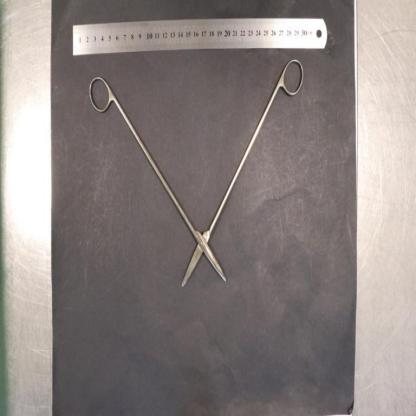9 Metzenbaum Scissors: (88, 58, 304, 290)
